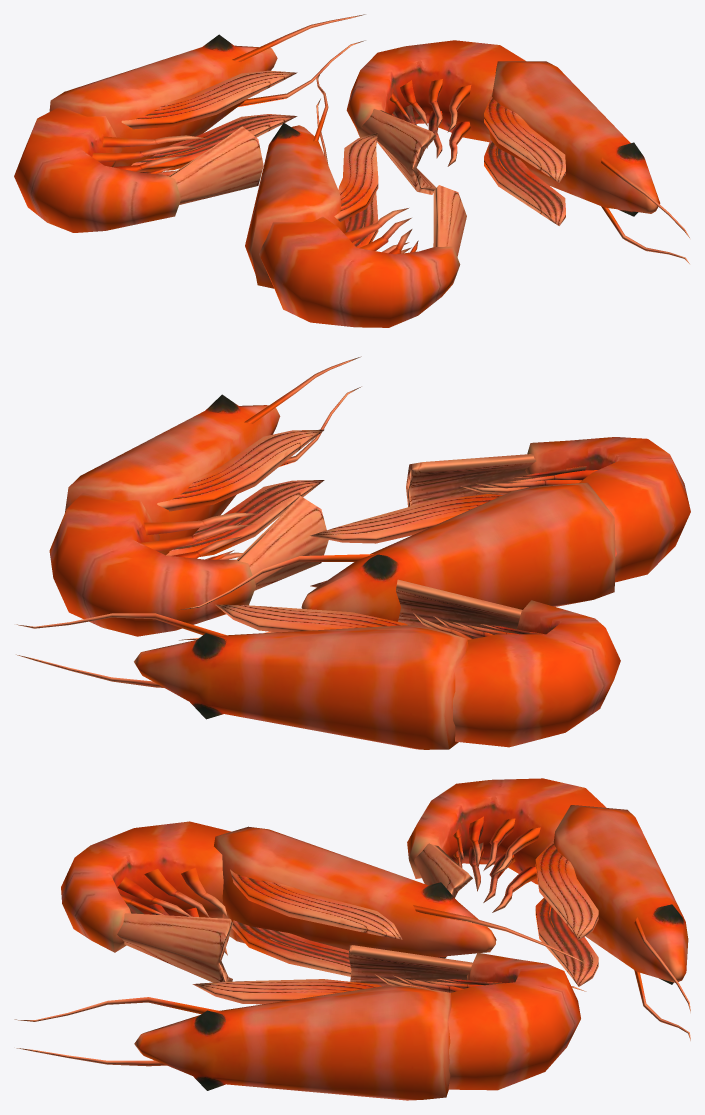
The picture shows the model from 3 angles, top to bottom: view 1: azimuth 30°, elevation 25°; view 2: azimuth 150°, elevation 25°; view 3: azimuth 270°, elevation 25°; orthographic projection. The views are drawn at different scales.
Parts seen in each view (by area): view 1: SM_Krill_Raw_01_LOD0; view 2: SM_Krill_Raw_01_LOD0; view 3: SM_Krill_Raw_01_LOD0.
Part boxes in pixels (left/top/right/bottom): SM_Krill_Raw_01_LOD0: left=14, top=14, right=689, bottom=327; SM_Krill_Raw_01_LOD0: left=16, top=356, right=690, bottom=749; SM_Krill_Raw_01_LOD0: left=14, top=778, right=690, bottom=1100.
Size of the model in its own units: 0.3184 by 0.0606 by 0.3436.
1 material, 1 textured.
